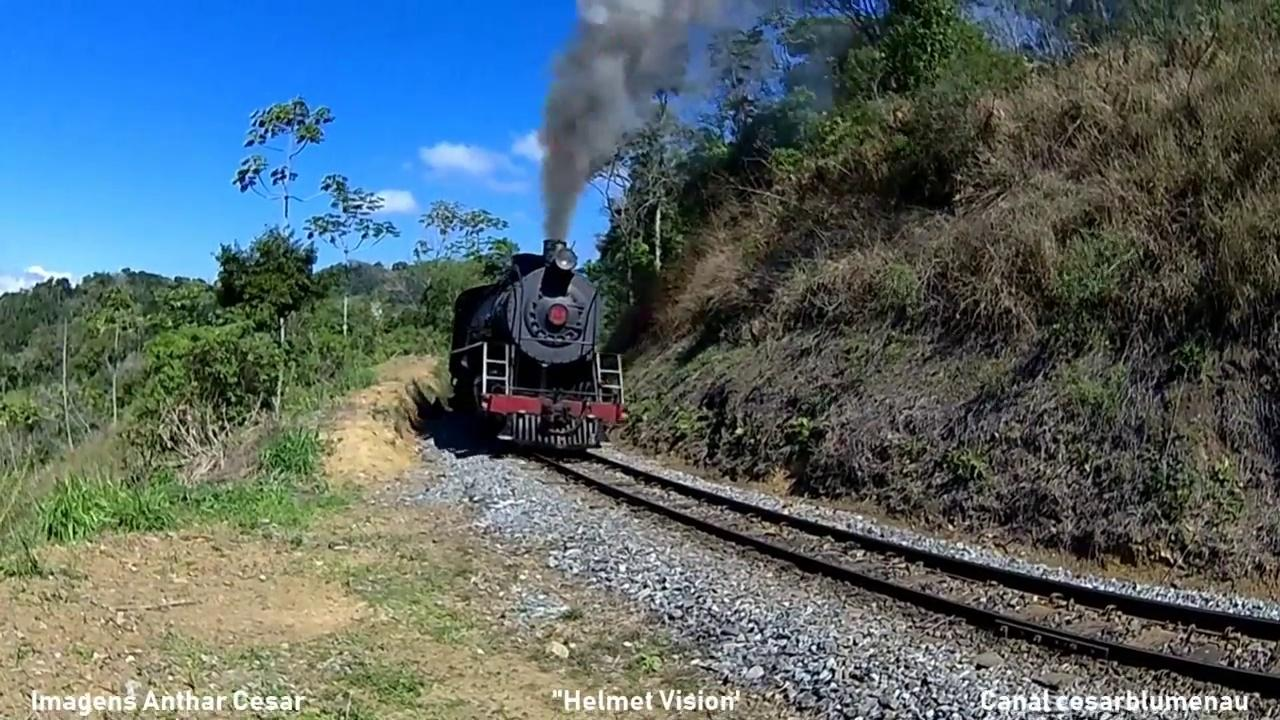Smoke: (510, 0, 766, 248)
